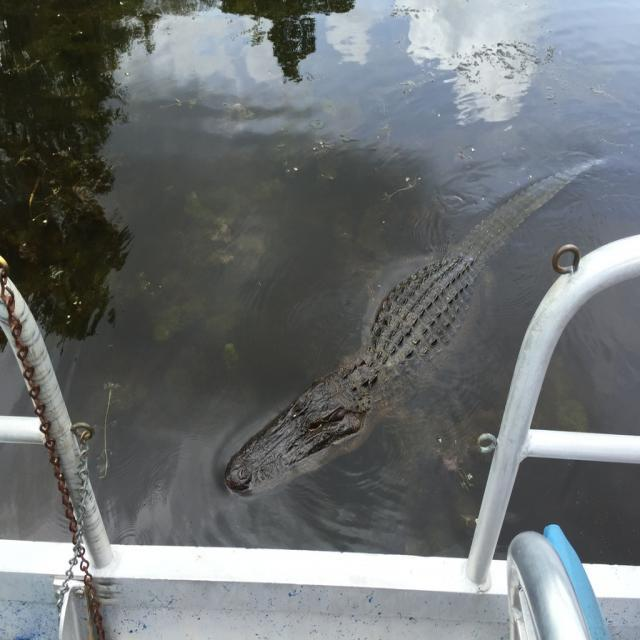crocodile: (185, 129, 622, 519)
